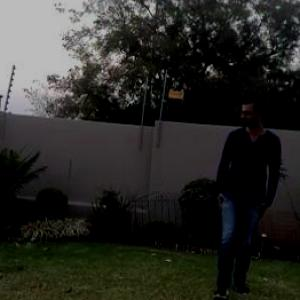follow: (211, 87, 279, 299)
